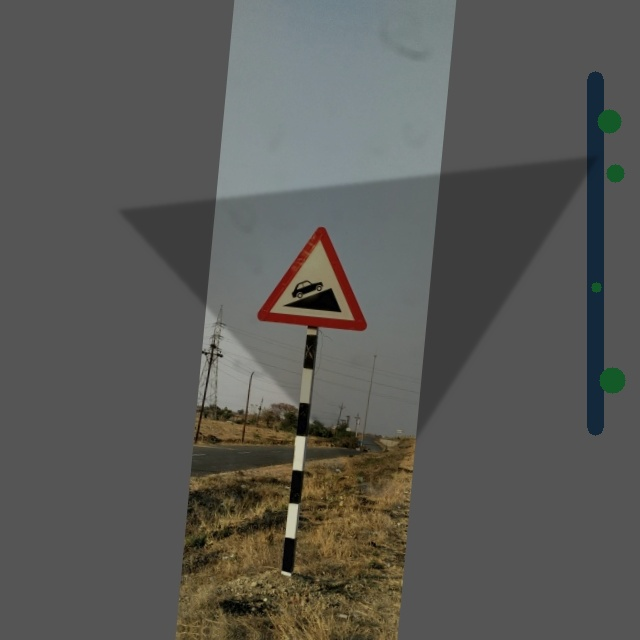Steep_Ascent: (260, 223, 378, 336)
